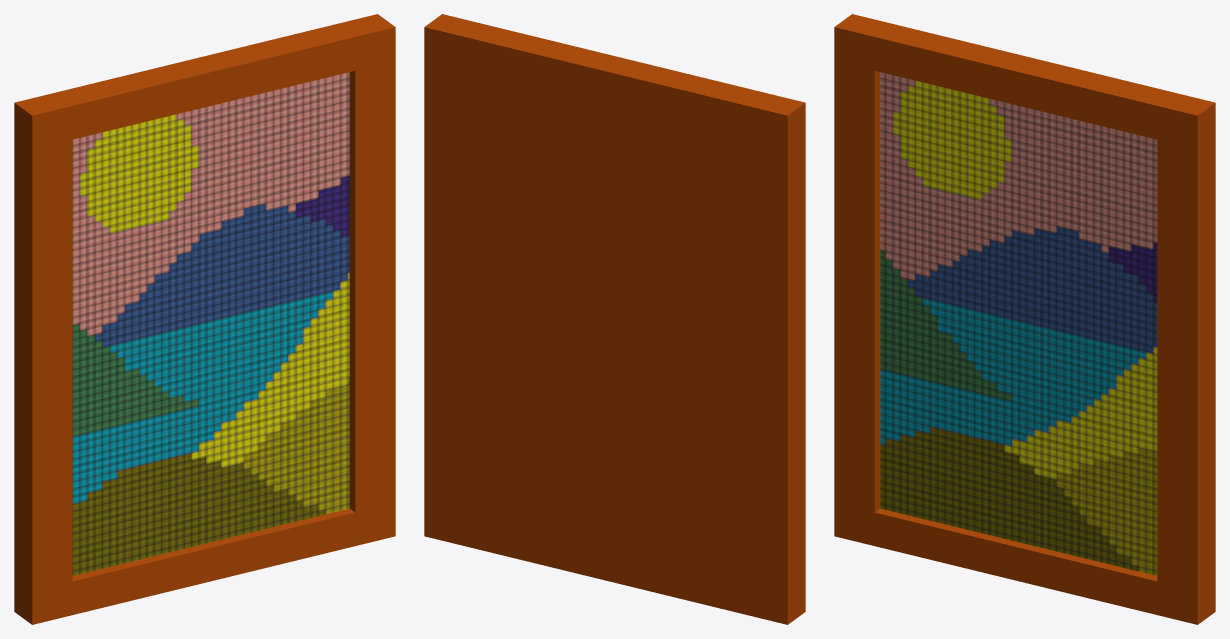
Rendered from Painting 4.fbx.
3 views of the same model, side by side, from view 1: azimuth 30°, elevation 25°; view 2: azimuth 150°, elevation 25°; view 3: azimuth 330°, elevation 25° (orthographic).
Visible parts, largest first — view 1: Painting_4; view 2: Painting_4; view 3: Painting_4.
Boxes of the visible parts, x1,y1,x2,y2 form: Painting_4: (14,14,395,624); Painting_4: (424,14,805,624); Painting_4: (834,14,1215,624).
Bounding box in the file's own units: 113 × 152 × 9.67.
